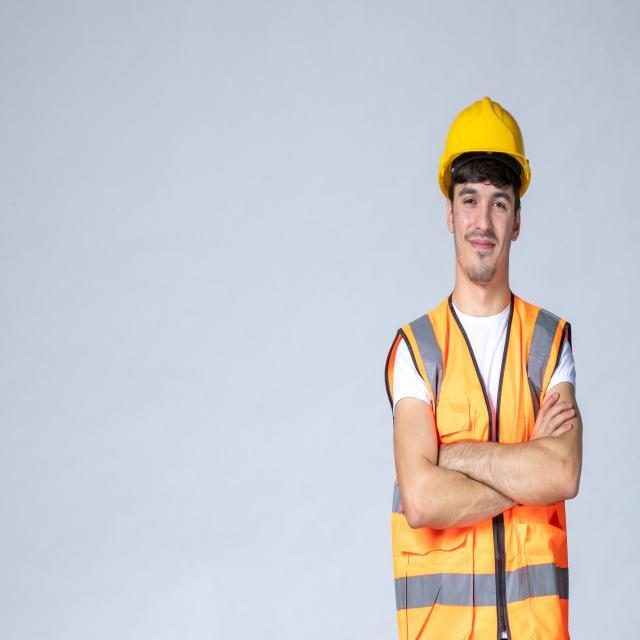helmet: (433, 93, 543, 200)
jacket: (387, 303, 583, 620)
